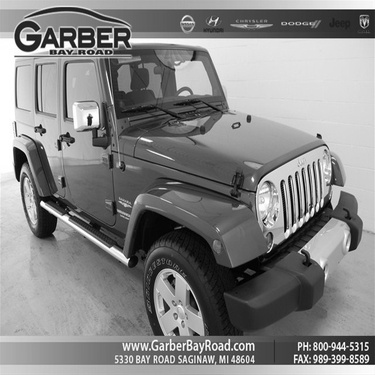car: (10, 36, 367, 343)
